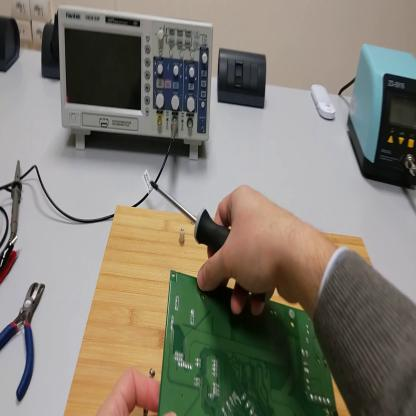hand: (196, 185, 296, 319), (93, 364, 177, 415)
low voltage board: (159, 269, 337, 416)
oscilloscope: (59, 3, 214, 162)
oscilloscope probe tip: (9, 159, 24, 245)
pliers: (1, 284, 46, 400)
screwdriver-: (150, 179, 232, 255)
socket: (2, 17, 22, 74), (41, 22, 61, 79)
welder station: (348, 43, 416, 189)
working area: (64, 206, 373, 415)
